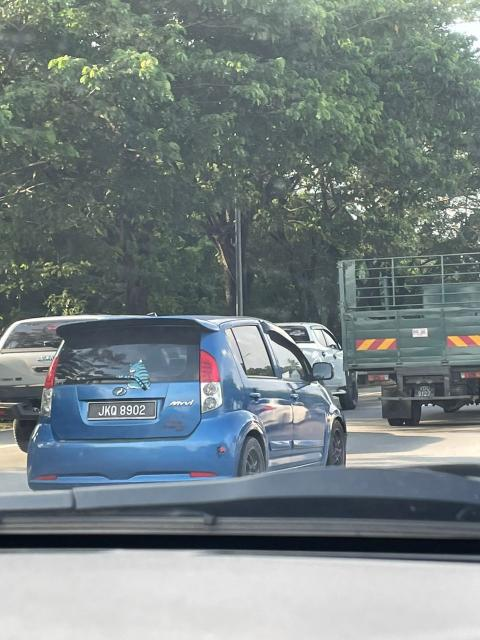License_Plate: (89, 402, 157, 423)
car: (31, 320, 341, 493)
